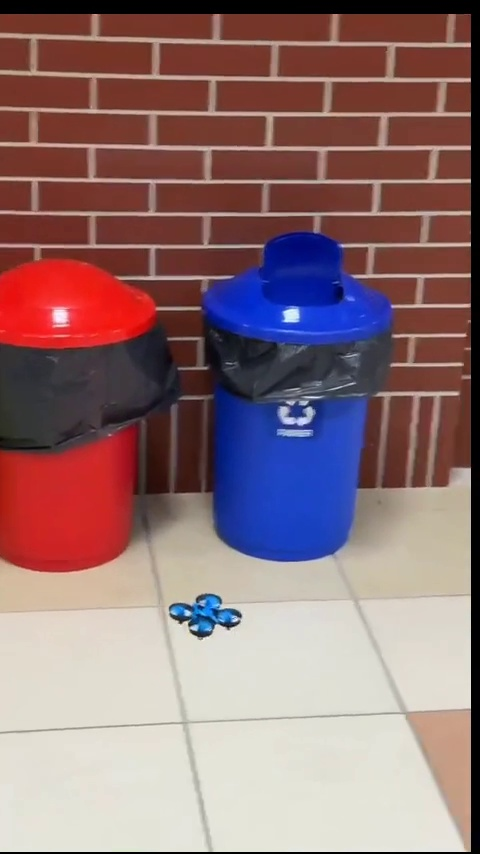drone: (168, 591, 242, 641)
